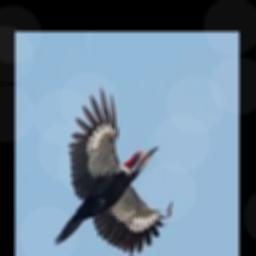Woodpecker: (54, 86, 173, 254)
